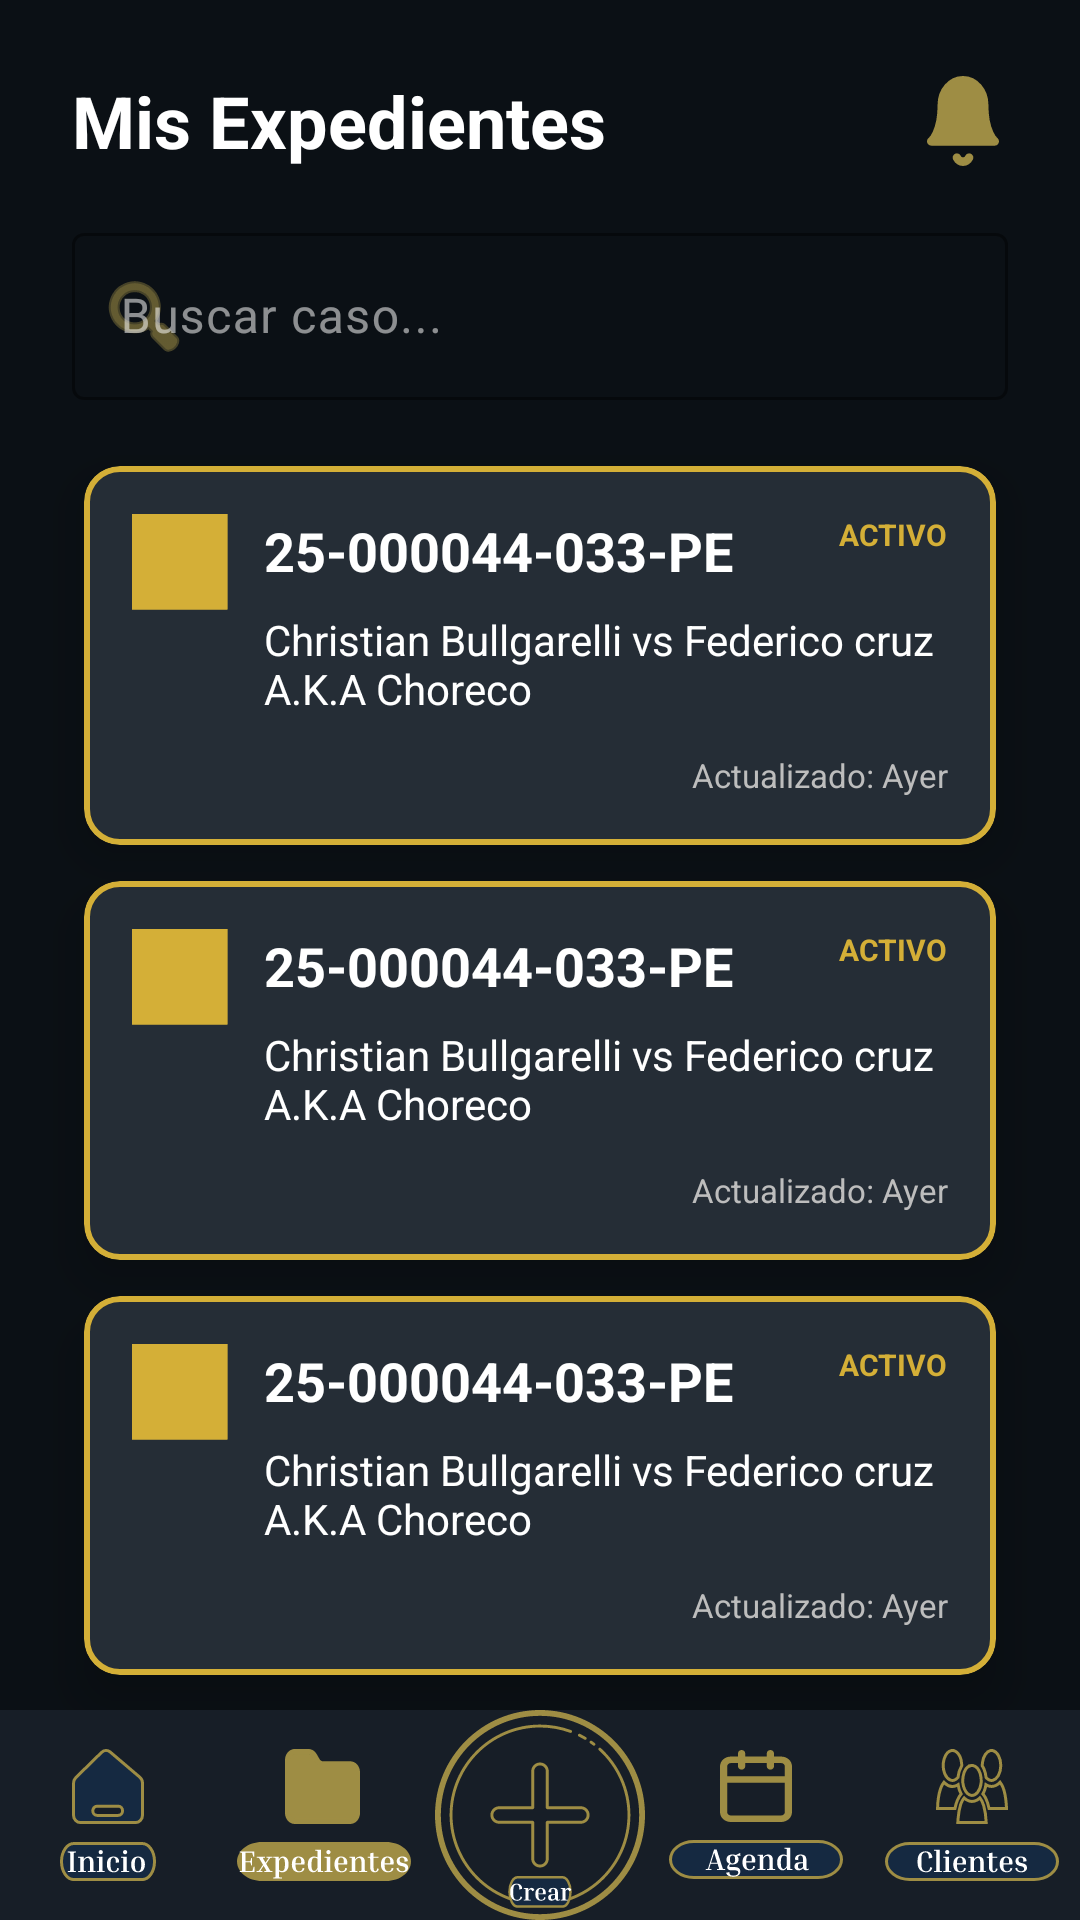

Where icons sit on this 1080×1920 app screen, as [x1=x1, y1=y1, x2=x2, y2=y2]:
notificaciones expedientes: [x1=927, y1=76, x2=999, y2=166]
